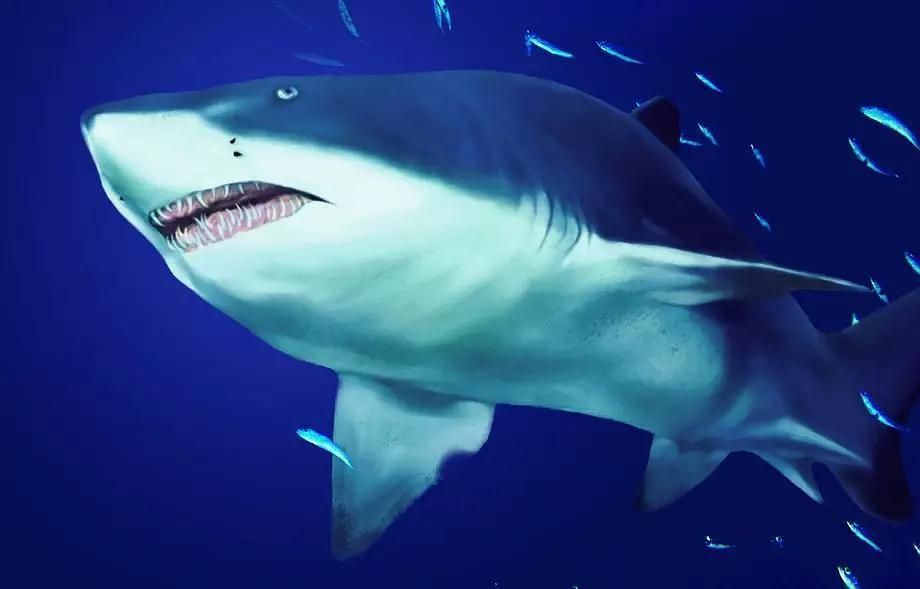fish: (74, 68, 920, 537)
